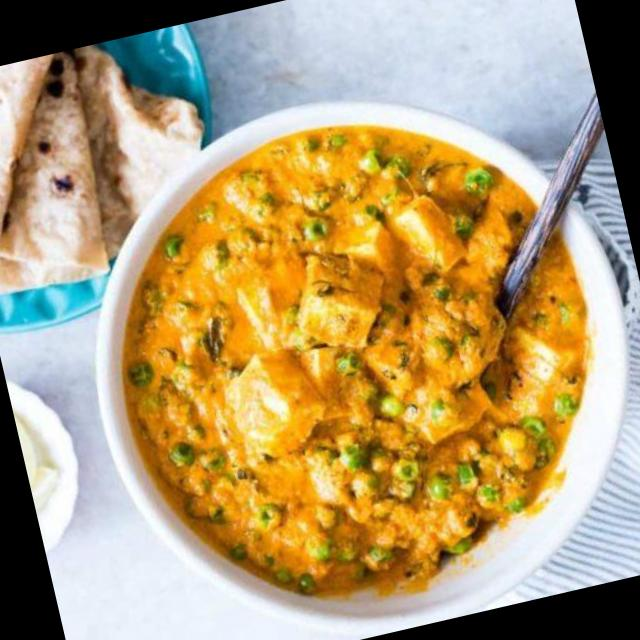roti: (0, 55, 95, 294)
